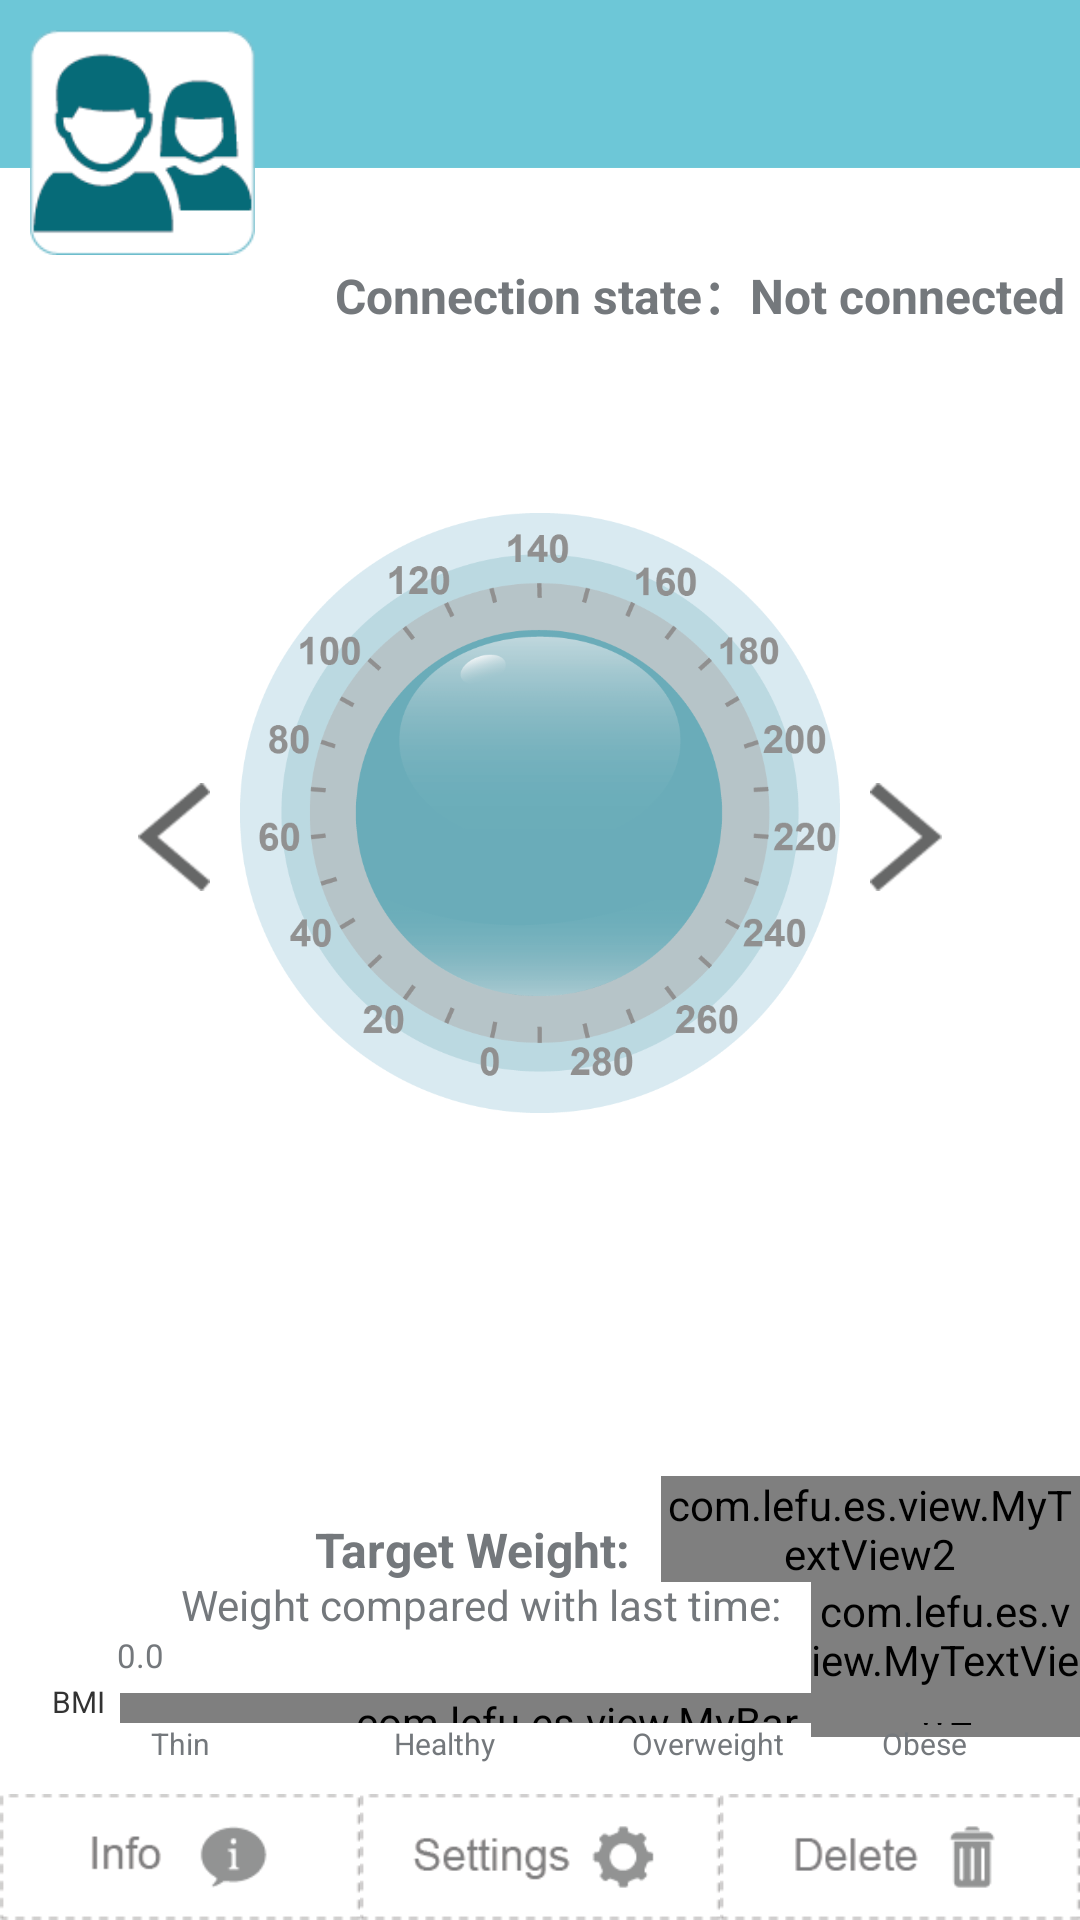

Screen size 1080*1920. Icon name, then its center in pixels as point (x, y):
left to: point (174, 837)
right to: point (906, 837)
user pic: point (142, 142)
